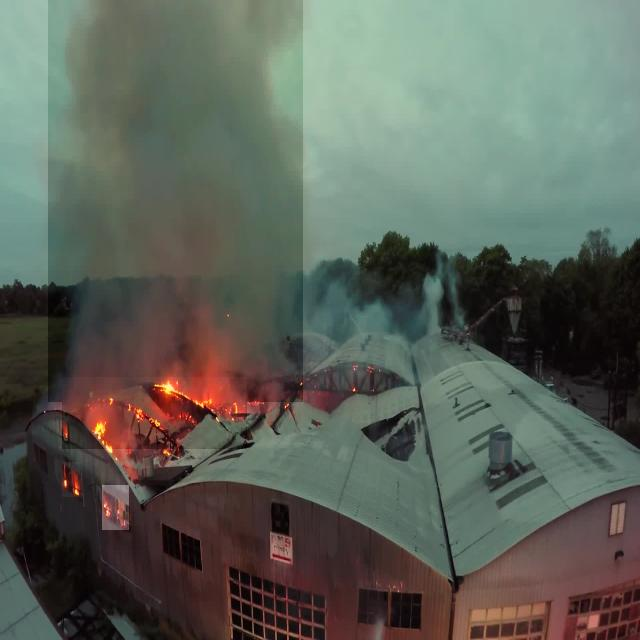Fire: (62, 377, 247, 449), (102, 485, 129, 530)
Smoke: (48, 0, 303, 402), (62, 462, 82, 497)
